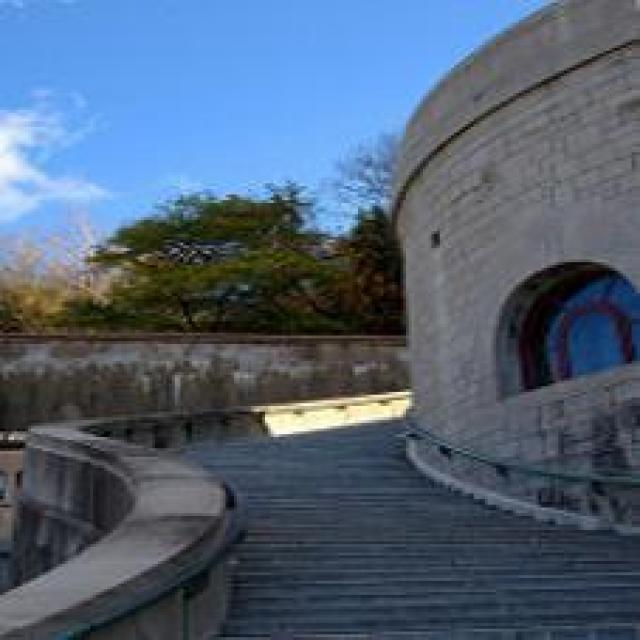upstair: (170, 404, 607, 621)
